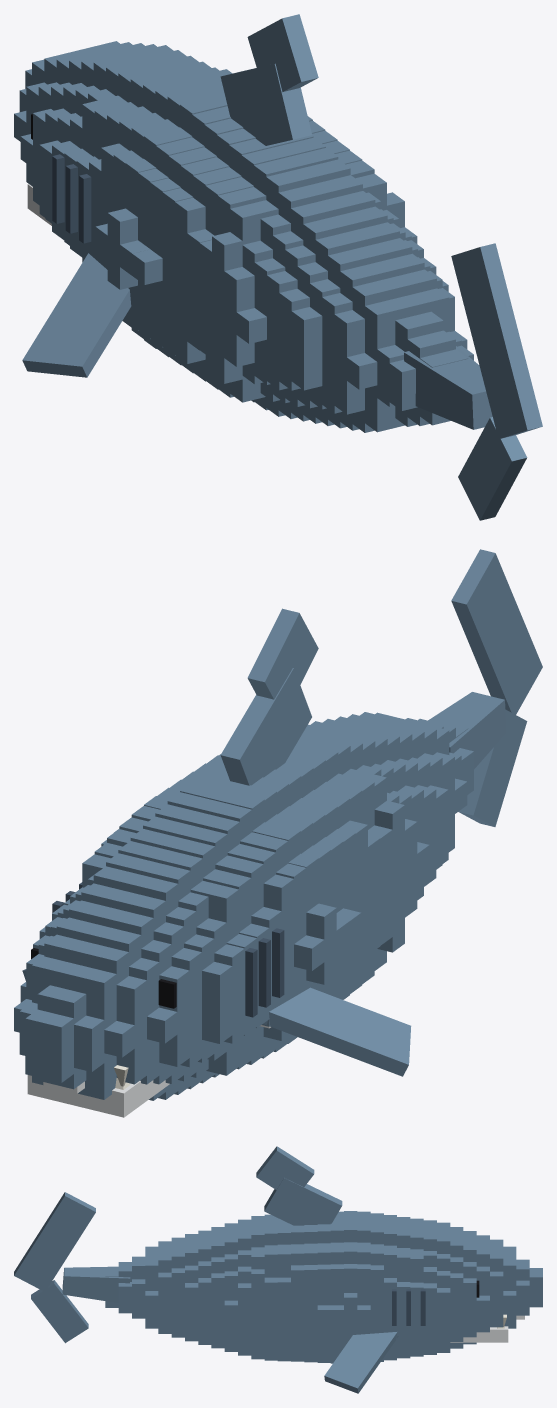
Rendered from ReefShark.glb.
3 views of the same model, one above another, from view 1: azimuth 30°, elevation 25°; view 2: azimuth 150°, elevation 25°; view 3: azimuth 270°, elevation 25° (orthographic). The views are drawn at different scales.
Visible parts, largest first — view 1: ReefShark_Body, ReefShark_TailFin, ReefShark_Tail, ReefShark_Accent; view 2: ReefShark_Body, ReefShark_TailFin, ReefShark_Tail, ReefShark_Accent, ReefShark_Jaw; view 3: ReefShark_Body, ReefShark_TailFin, ReefShark_Tail, ReefShark_Accent, ReefShark_Jaw.
Part boxes in pixels (x1,y1,x2,y2): ReefShark_Body: (14,14,473,432); ReefShark_TailFin: (451,243,542,520); ReefShark_Tail: (404,346,492,429); ReefShark_Accent: (52,154,91,243); ReefShark_Body: (14,608,473,1100); ReefShark_TailFin: (451,549,542,826); ReefShark_Tail: (428,692,506,769); ReefShark_Accent: (52,882,284,1017); ReefShark_Jaw: (27,1075,169,1117); ReefShark_Body: (105,1146,542,1393); ReefShark_TailFin: (14,1192,95,1343); ReefShark_Tail: (62,1266,130,1302); ReefShark_Accent: (392,1289,425,1325); ReefShark_Jaw: (450,1326,508,1342).
Size of the model in its own units: 2 by 1.9 by 4.41.
